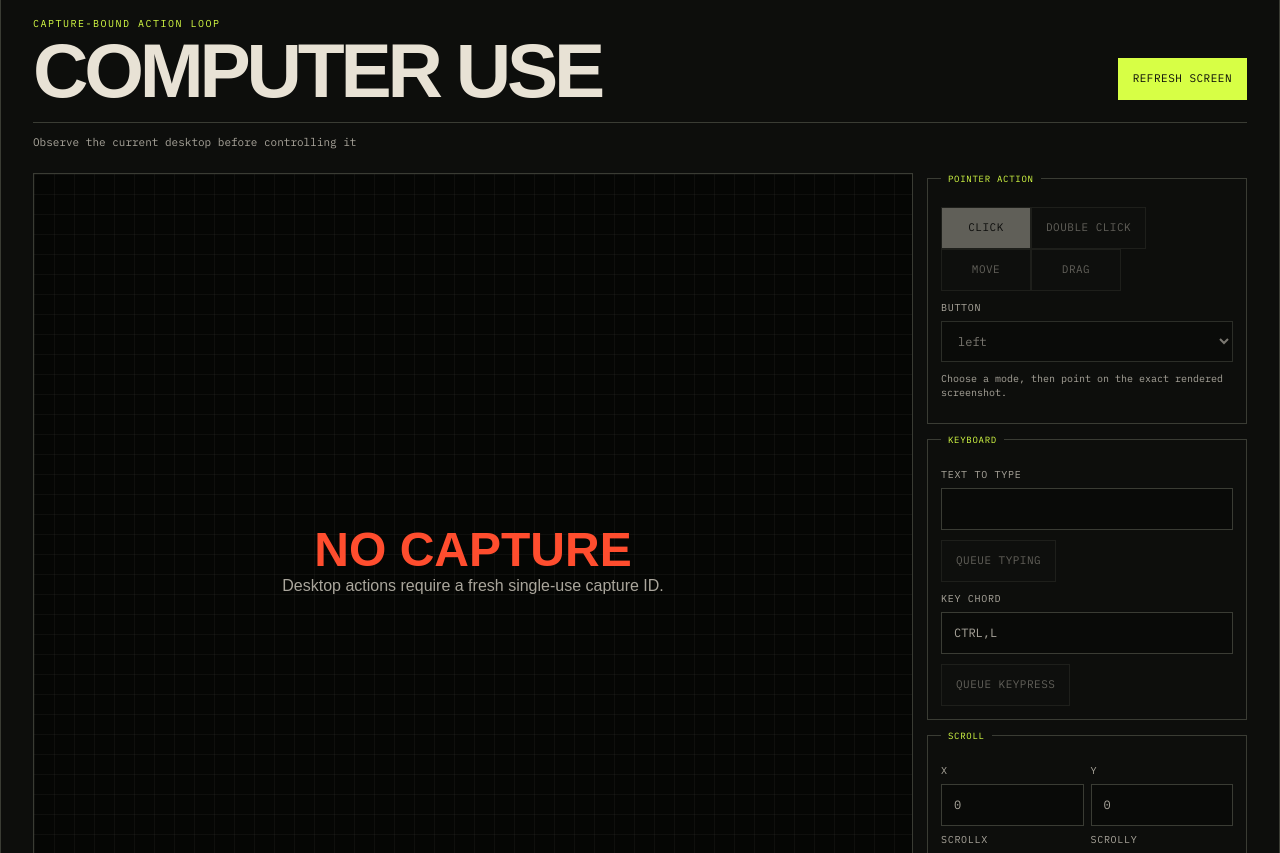
Computer Use capture and gesture safety › keeps an uncertain execution visible without automatic refresh or retry
The width and height of the screenshot is (1280, 853).
Click the button "Refresh screen" at (1182,79), box [1118,58,1247,100]
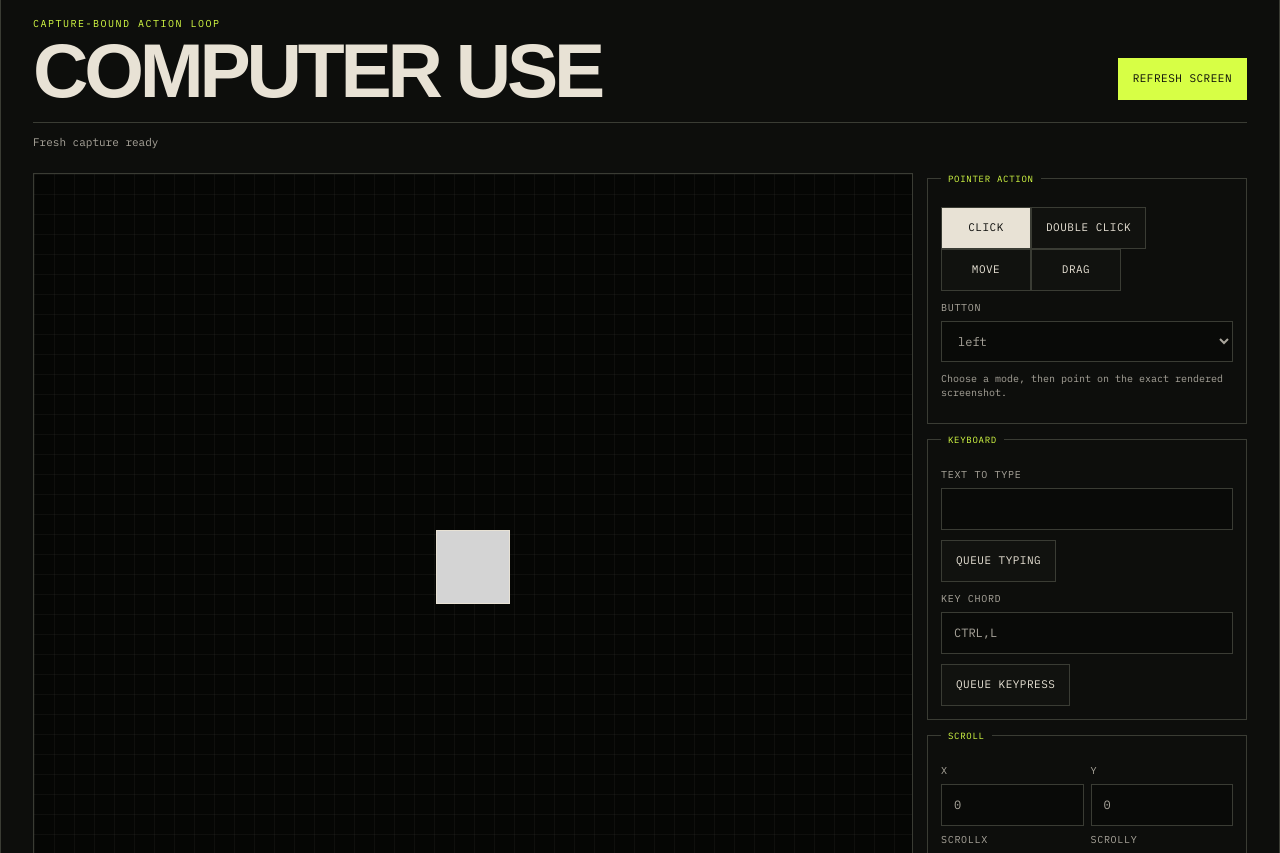
Click the button "Queue keypress" at (1006,685), box [941,664,1070,706]
(page scrolled)
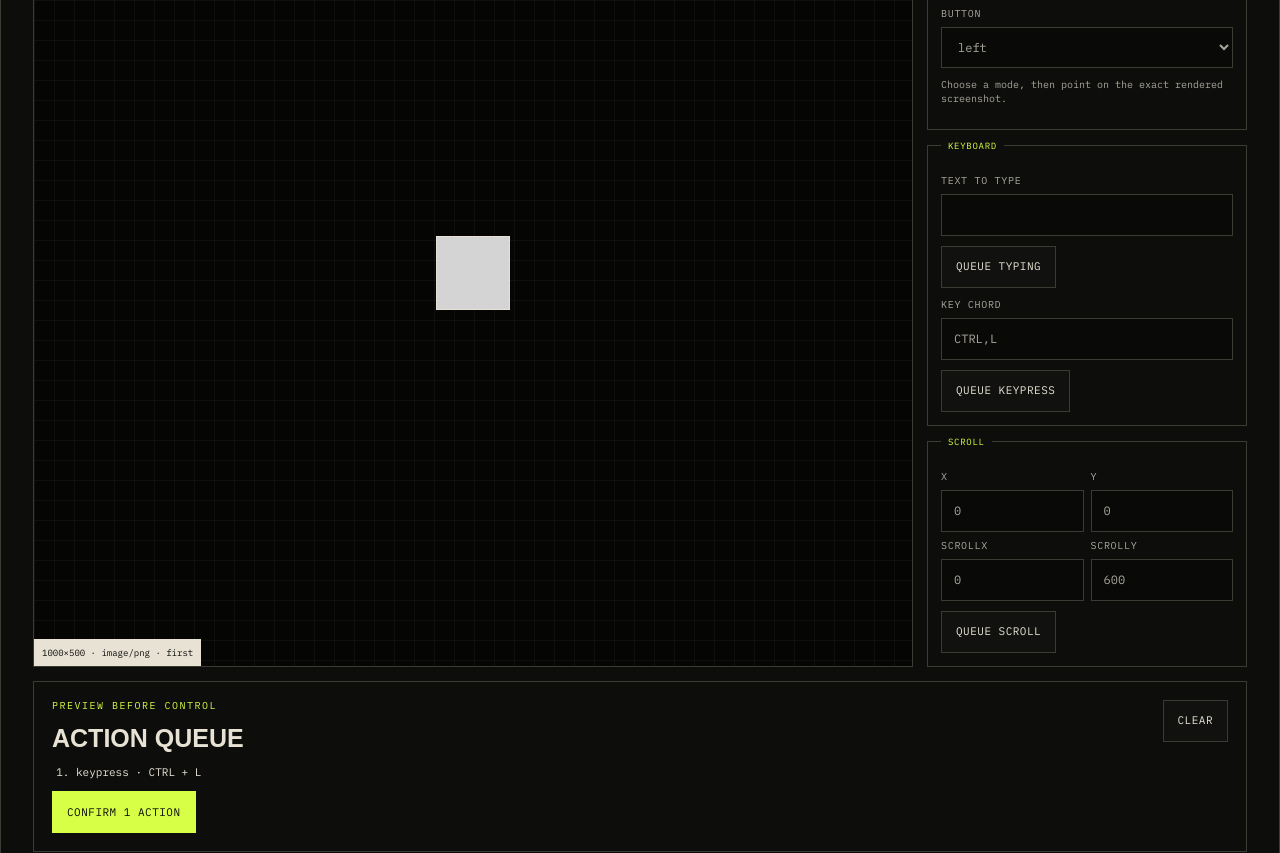
Click the button "Confirm 1 action" at (124,812), box [52,791,196,833]
(page scrolled)
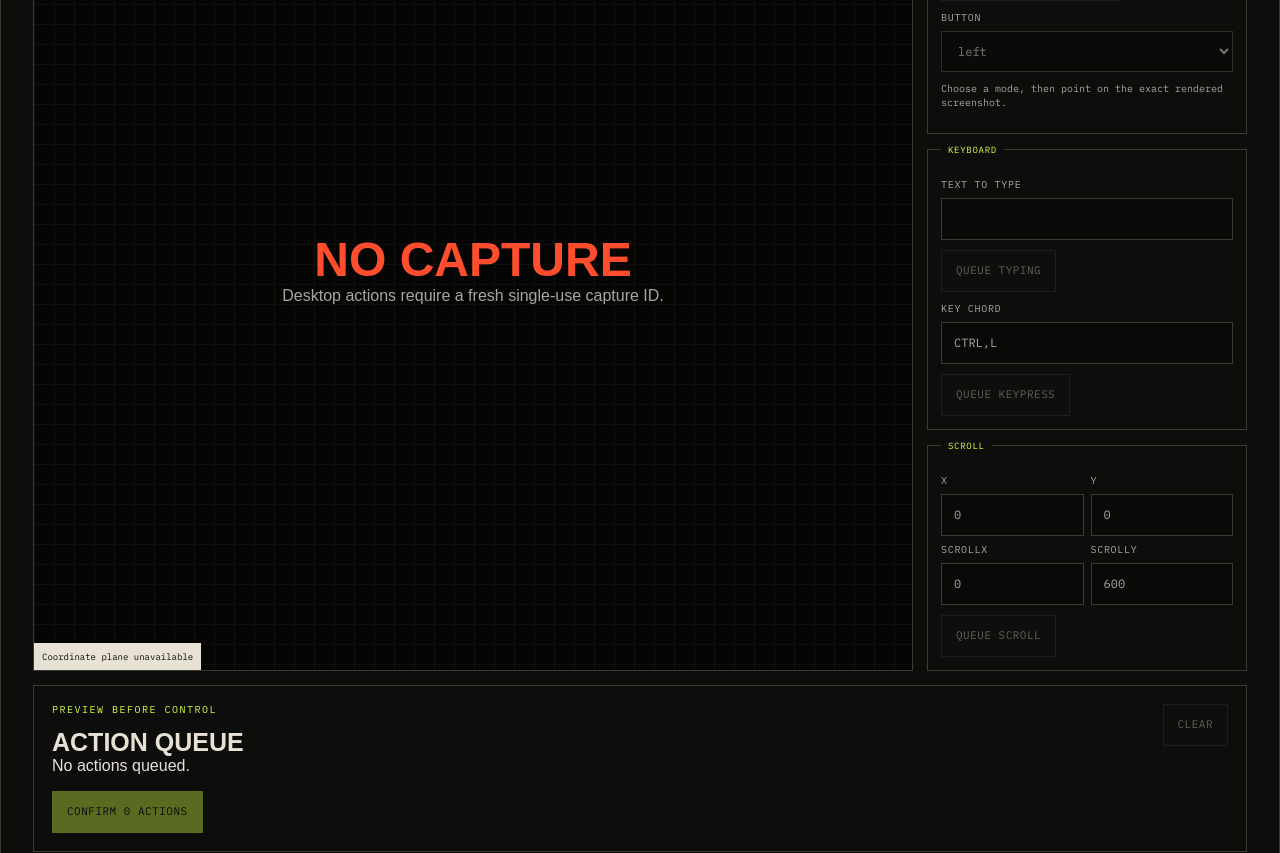
expect the button "Queue keypress" is disabled: met, box [941,374,1070,416]
expect the picture is gone: met
